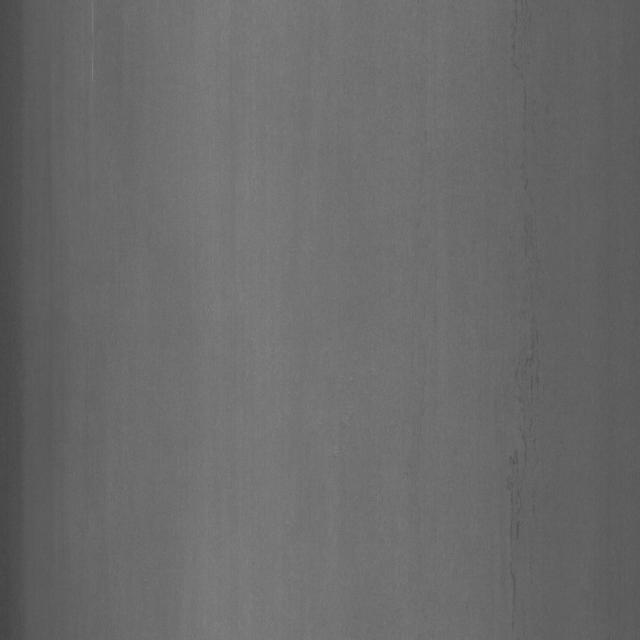inclusion: (490, 187, 561, 587)
